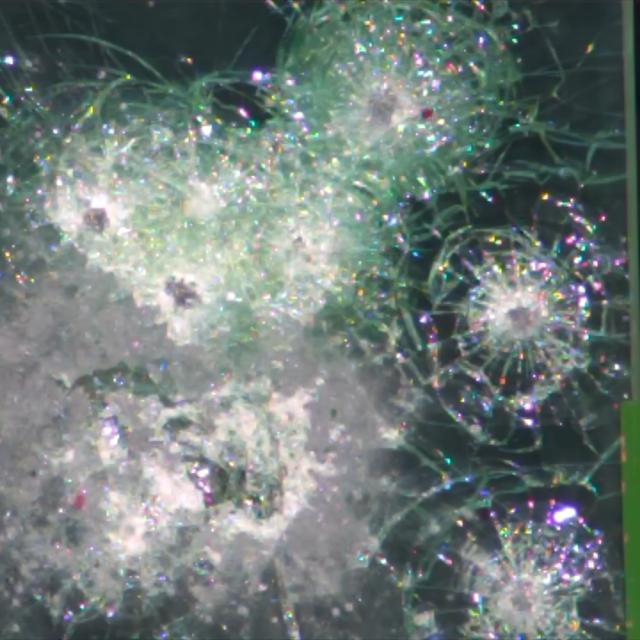bullets: (350, 78, 410, 140), (498, 574, 554, 633), (494, 283, 550, 341), (159, 266, 207, 316), (76, 200, 117, 240)
